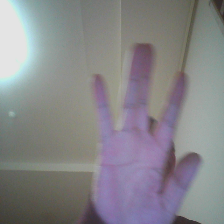hand: (88, 43, 204, 223)
